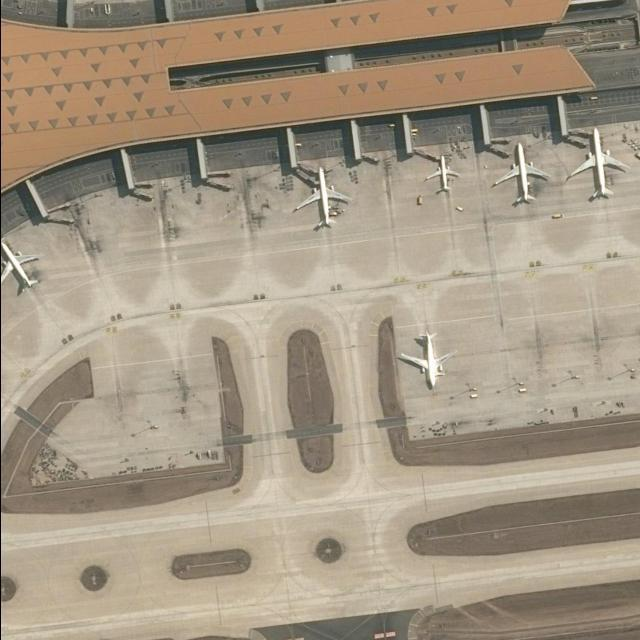Aircraft: (294, 163, 352, 239), (493, 142, 553, 210), (571, 127, 622, 198), (400, 329, 454, 395), (1, 235, 43, 297), (426, 152, 464, 200)
